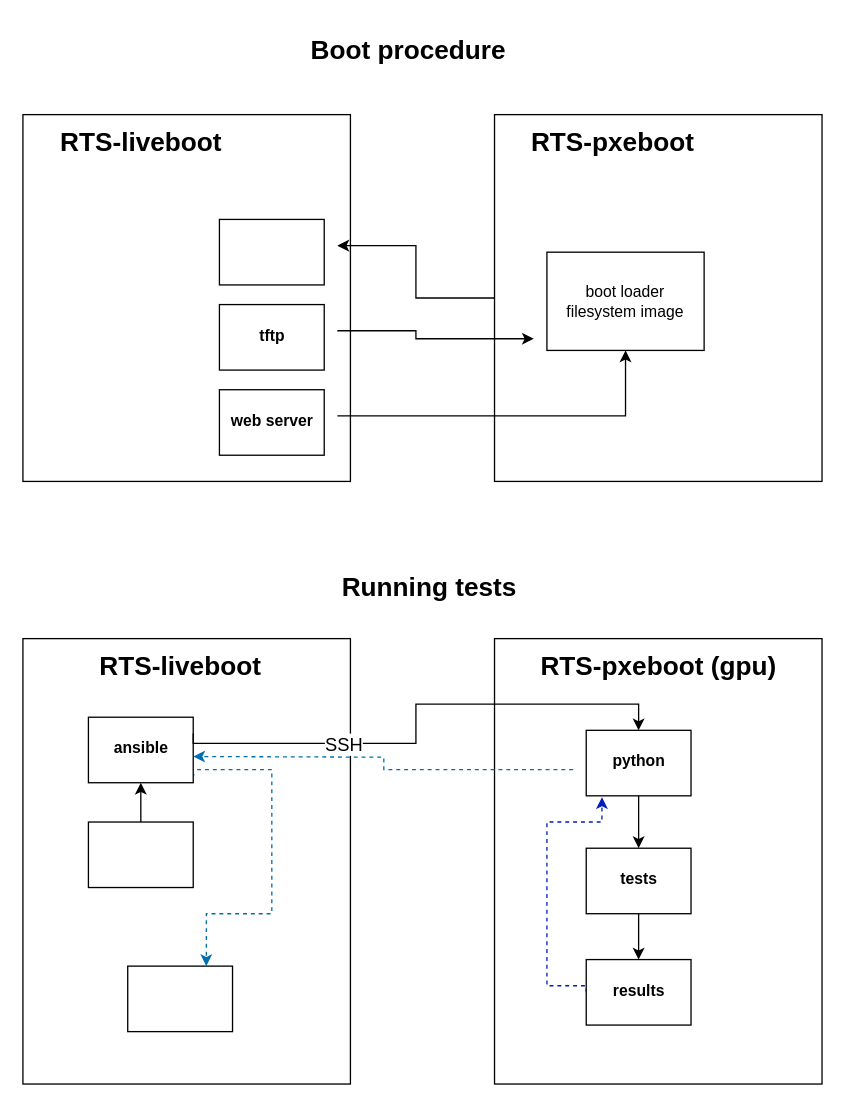
Some shapes in this 845 by 1107 pixel diagram are drawn without their labels. The centre of each missing label's shape, as x and y in pixels:
dnsmasq: point 271,251
playbooks: point 140,854
webserver: point 179,998
